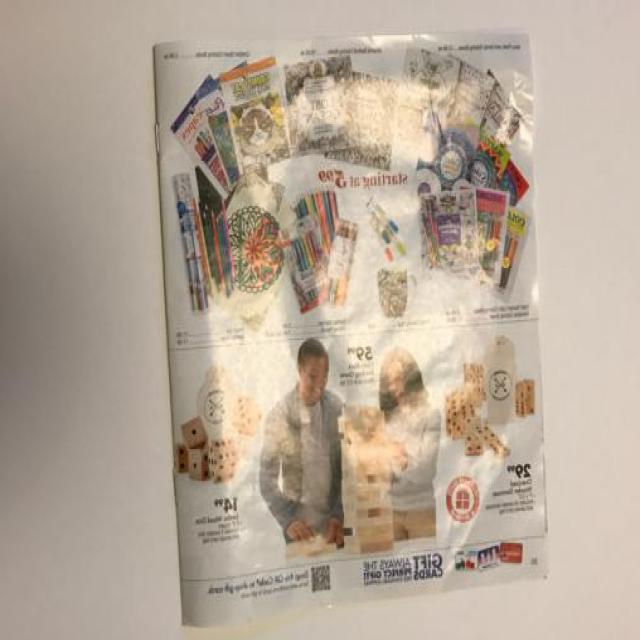kertas: (152, 28, 553, 626)
